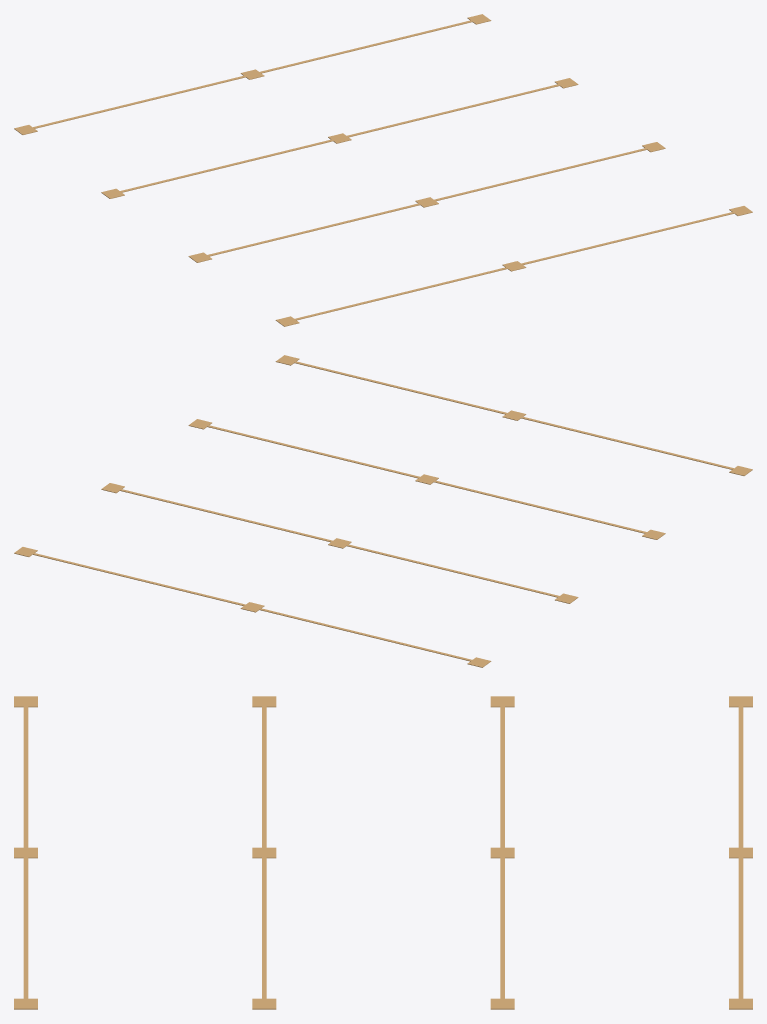
File: board.glb
The picture shows the model from 3 angles, top to bottom: view 1: azimuth 30°, elevation 25°; view 2: azimuth 150°, elevation 25°; view 3: azimuth 270°, elevation 25°; orthographic projection. The views are drawn at different scales.
Visible parts, largest first — view 1: Unified_Net_1_Contour_0, Unified_Net_4_Contour_0, Unified_Net_3_Contour_0, Unified_Net_2_Contour_0; view 2: Unified_Net_1_Contour_0, Unified_Net_4_Contour_0, Unified_Net_3_Contour_0, Unified_Net_2_Contour_0; view 3: Unified_Net_1_Contour_0, Unified_Net_4_Contour_0, Unified_Net_3_Contour_0, Unified_Net_2_Contour_0.
Boxes of the visible parts, <box> form: Unified_Net_1_Contour_0: <box>14,14,491,134</box>; Unified_Net_4_Contour_0: <box>275,206,752,326</box>; Unified_Net_3_Contour_0: <box>188,142,665,262</box>; Unified_Net_2_Contour_0: <box>101,78,578,198</box>; Unified_Net_1_Contour_0: <box>14,547,491,667</box>; Unified_Net_4_Contour_0: <box>275,355,752,475</box>; Unified_Net_3_Contour_0: <box>188,419,665,539</box>; Unified_Net_2_Contour_0: <box>101,483,578,603</box>; Unified_Net_1_Contour_0: <box>729,696,752,1009</box>; Unified_Net_4_Contour_0: <box>14,696,37,1009</box>; Unified_Net_3_Contour_0: <box>252,696,276,1009</box>; Unified_Net_2_Contour_0: <box>490,696,514,1009</box>.
Size of the model in its own units: 0.031 by 3.5e-05 by 0.031.
